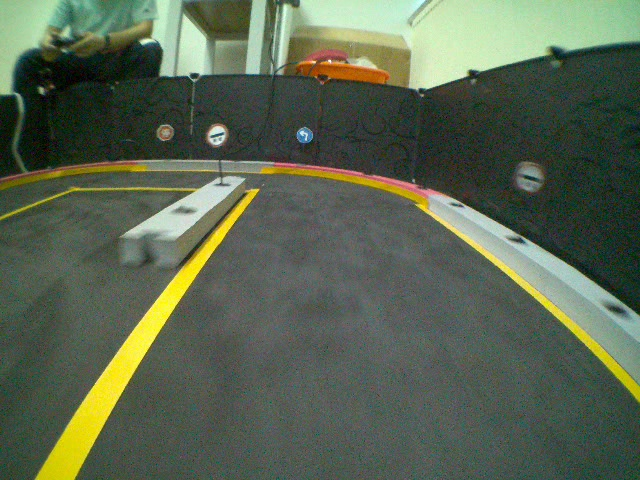Check: (512, 159, 547, 195), (207, 121, 230, 148)
Stop: (155, 123, 175, 143)
turn: (295, 125, 314, 146)
